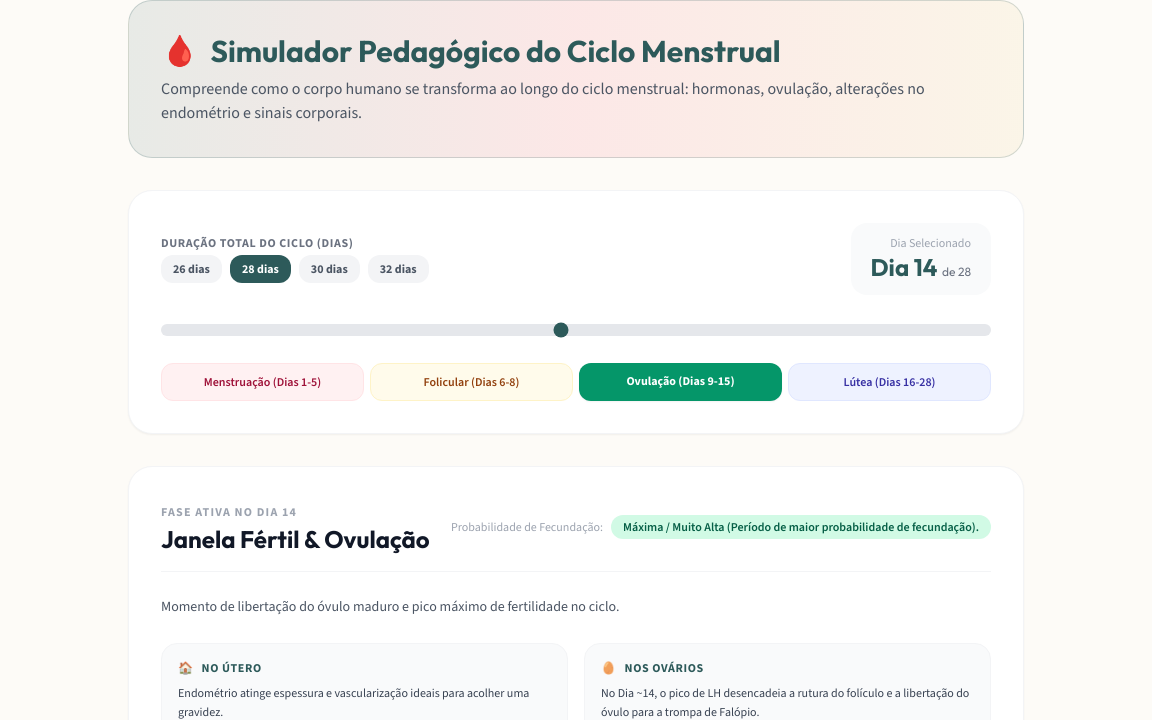
Test: MenstrualCycleSim › switches cycle length to 30 days
Click the button "30 dias".
click(329, 269)  # box [299, 255, 360, 283]
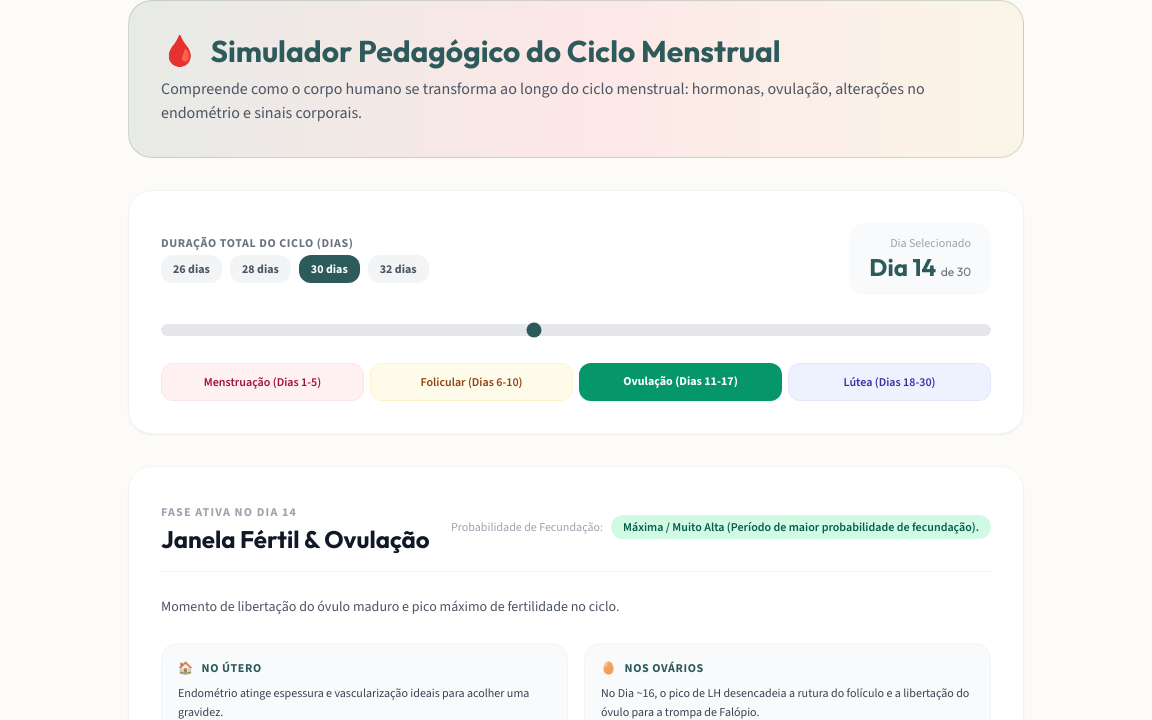
Expected: the text "de 30" is shown, [941, 264, 971, 279]
